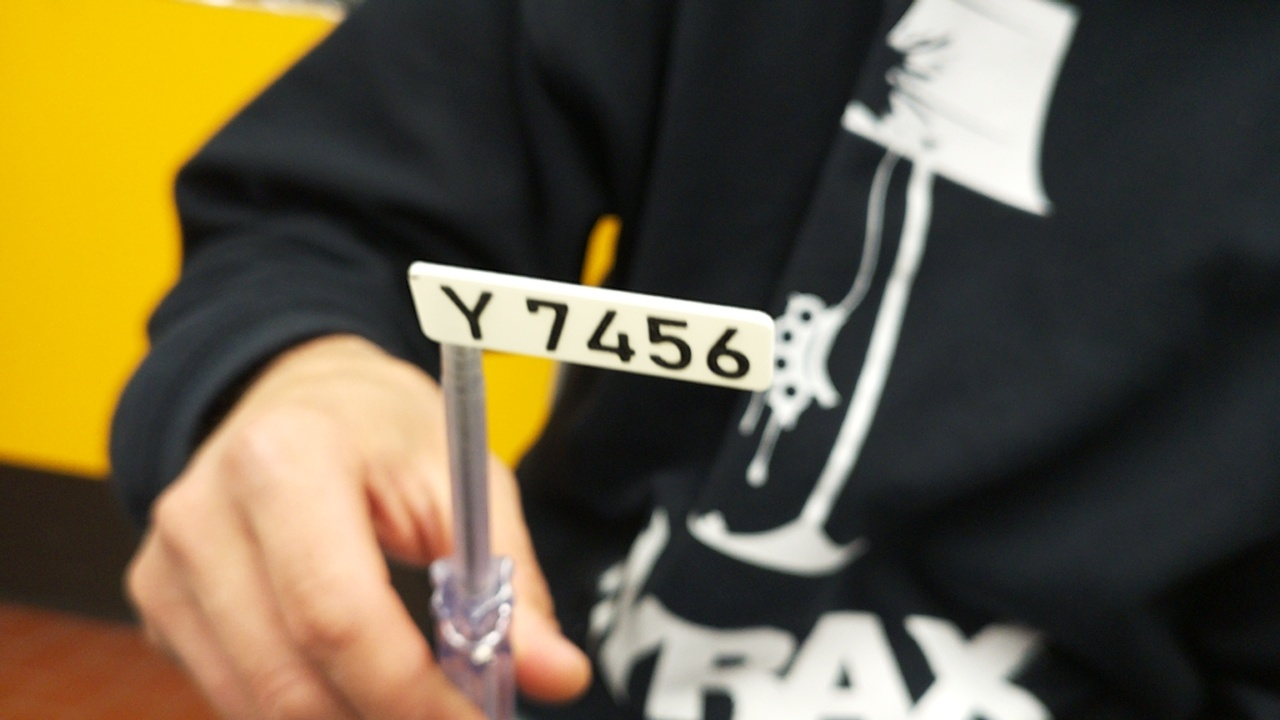license_plate: (406, 258, 775, 395)
